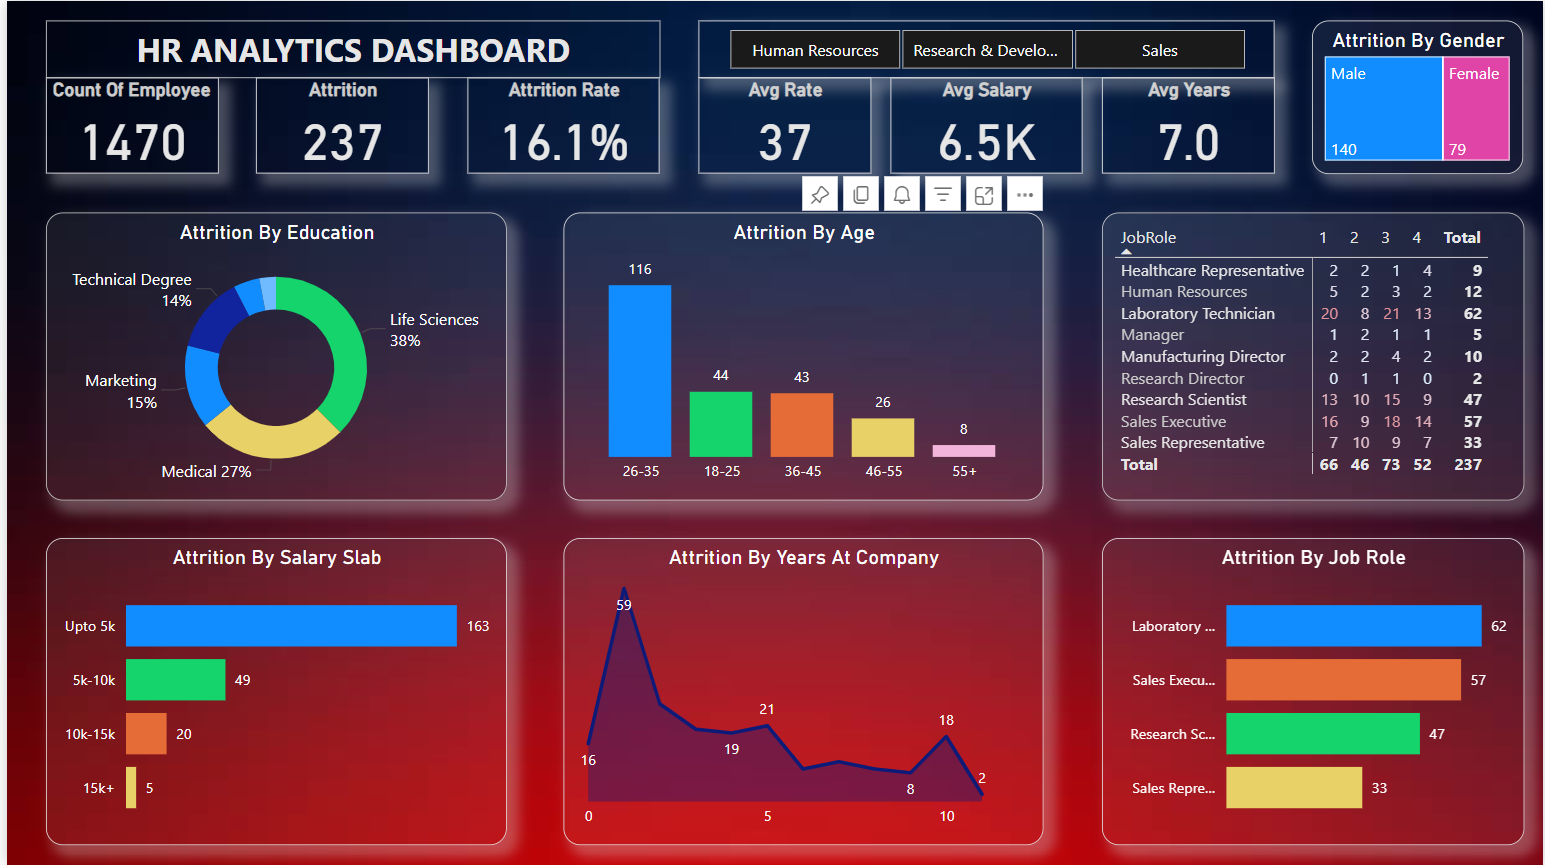

Layout of this report page (visuals, bound fields, positions):
{"tool":"powerbi","page":{"name":"Page 1","canvas":[1280,720],"ordinal":0},"visuals":[{"type":"card","title":"Count Of Employee","fields":{"Values":["CountNonNull(HR_Analytics.EmpID)"]},"box":[32,64,144,80],"z":0},{"type":"card","title":"Attrition","fields":{"Values":["Sum(HR_Analytics.AttritionCount)"]},"box":[208,64,144,80],"z":1000},{"type":"card","title":"Attrition Rate","fields":{"Values":["HR_Analytics.AttritionRate1"]},"box":[384,64,160,80],"z":2000},{"type":"card","title":"Avg Rate","fields":{"Values":["Avg(HR_Analytics.Age)"]},"box":[576,64,144,80],"z":3000},{"type":"card","title":"Avg Salary","fields":{"Values":["Avg(HR_Analytics.MonthlyIncome)"]},"box":[736,64,160,80],"z":4000},{"type":"card","title":"Avg Years","fields":{"Values":["Avg(HR_Analytics.YearsAtCompany)"]},"box":[912,64,144,80],"z":5000},{"type":"donutChart","title":"Attrition By Education","fields":{"Category":["HR_Analytics.EducationField"],"Y":["Sum(HR_Analytics.AttritionCount)"]},"box":[32,176,384,240],"z":6000},{"type":"columnChart","title":"Attrition By Age","fields":{"Category":["HR_Analytics.AgeGroup"],"Y":["Sum(HR_Analytics.AttritionCount)"]},"box":[464,176,400,240],"z":7000},{"type":"pivotTable","fields":{"Rows":["HR_Analytics.JobRole"],"Columns":["HR_Analytics.JobSatisfaction"],"Values":["Sum(HR_Analytics.AttritionCount)"]},"box":[912,176,352,240],"z":8000},{"type":"barChart","title":"Attrition By Salary Slab","fields":{"Category":["HR_Analytics.SalarySlab"],"Y":["Sum(HR_Analytics.AttritionCount)"]},"box":[32,448,384,256],"z":9000},{"type":"barChart","title":"Attrition By Job Role","fields":{"Category":["HR_Analytics.JobRole"],"Y":["Sum(HR_Analytics.AttritionCount)"]},"box":[912,448,352,256],"z":10000},{"type":"areaChart","title":"Attrition By Years At Company","fields":{"Category":["HR_Analytics.YearsAtCompany"],"Y":["Sum(HR_Analytics.AttritionCount)"]},"box":[464,448,400,256],"z":11000},{"type":"treemap","title":"Attrition By Gender","fields":{"Group":["HR_Analytics.Gender"],"Values":["Sum(HR_Analytics.AttritionCount)"]},"box":[1088,16,176,128],"z":12000},{"type":"slicer","fields":{"Values":["HR_Analytics.Department"]},"box":[576,16,480,48],"z":13000},{"type":"textbox","box":[32,16,512,48],"z":14000}]}

Visuals, with their boxes in screenshot pixels (x1, y1, x2, y2), scaled from the page's 1280x720 canvas onto the 1545x865 screenshot:
"Count Of Employee" card: [39, 77, 212, 173]
"Attrition" card: [251, 77, 425, 173]
"Attrition Rate" card: [464, 77, 657, 173]
"Avg Rate" card: [695, 77, 869, 173]
"Avg Salary" card: [888, 77, 1082, 173]
"Avg Years" card: [1101, 77, 1275, 173]
"Attrition By Education" donutChart: [39, 211, 502, 500]
"Attrition By Age" columnChart: [560, 211, 1043, 500]
pivotTable - HR_Analytics.JobRole x HR_Analytics.JobSatisfaction: [1101, 211, 1526, 500]
"Attrition By Salary Slab" barChart: [39, 538, 502, 846]
"Attrition By Job Role" barChart: [1101, 538, 1526, 846]
"Attrition By Years At Company" areaChart: [560, 538, 1043, 846]
"Attrition By Gender" treemap: [1313, 19, 1526, 173]
slicer - HR_Analytics.Department: [695, 19, 1275, 77]
textbox: [39, 19, 657, 77]
